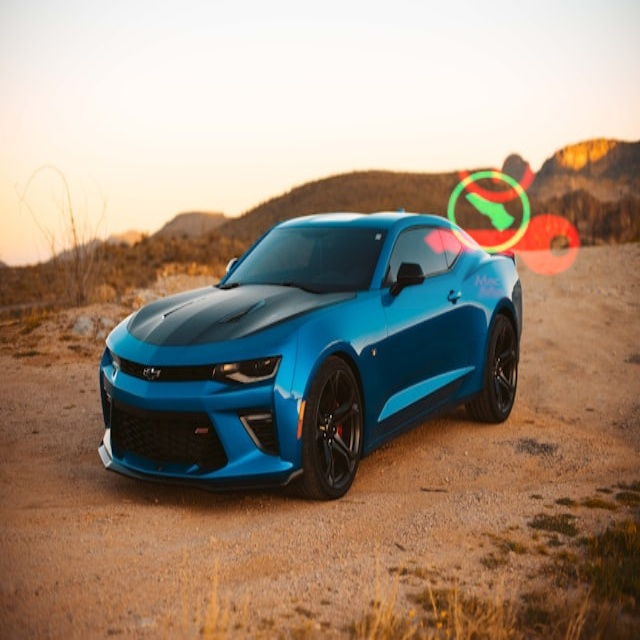symbol: (394, 92, 611, 309), (412, 133, 573, 294), (91, 87, 219, 215)
